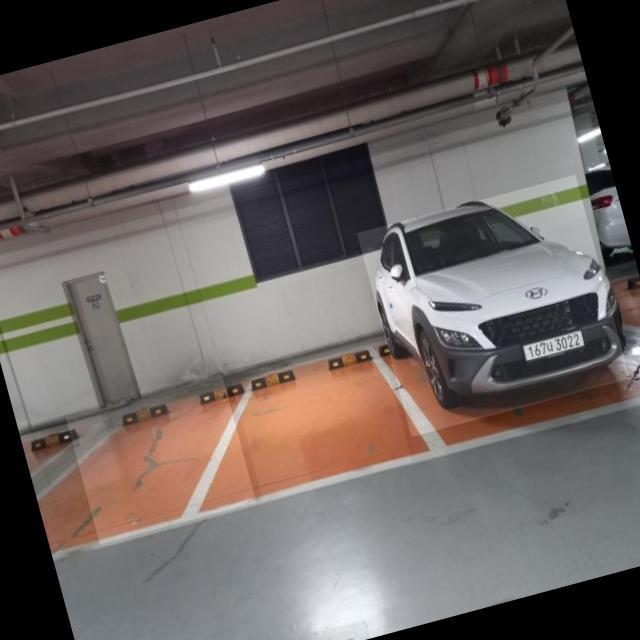empty: (66, 375, 256, 544), (230, 340, 412, 501)
occupied: (356, 174, 630, 436)
